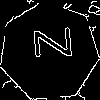Z: (24, 26, 72, 61)
